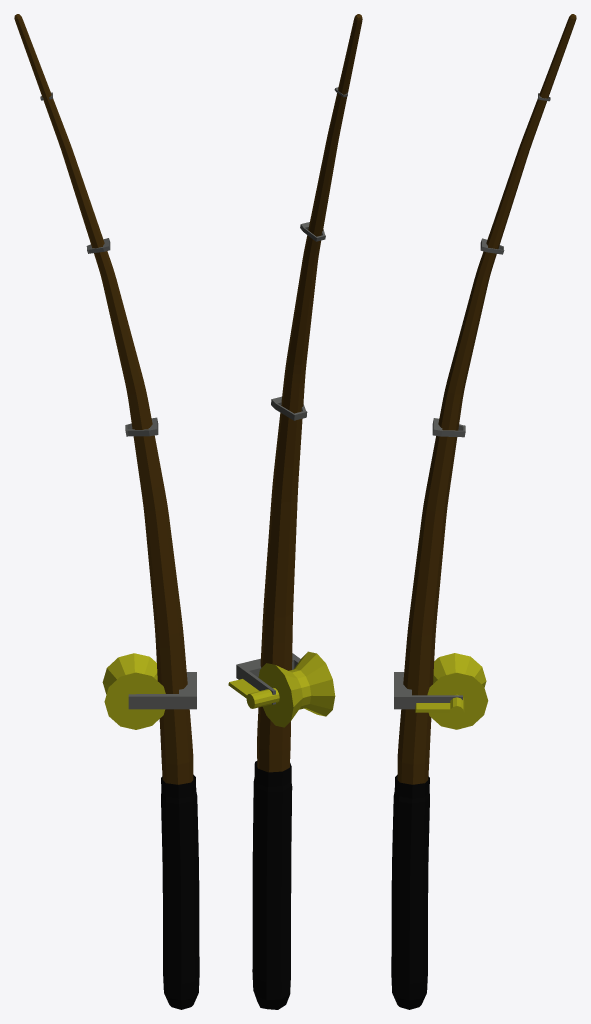
Rendered from FishingRodSource.fbx.
The picture shows the model from 3 angles, left to right: view 1: azimuth 90°, elevation 25°; view 2: azimuth 210°, elevation 25°; view 3: azimuth 270°, elevation 25°; orthographic projection. The views are drawn at different scales.
Parts seen in each view (by area): view 1: Cube, Cylinder, Cube.001; view 2: Cube, Cylinder, Cube.001; view 3: Cube, Cylinder, Cube.001.
Boxes of the visible parts, box(x1,y1,x2,y2) form: Cube: box(14, 14, 199, 1009); Cylinder: box(102, 653, 165, 729); Cube.001: box(40, 92, 196, 709); Cube: box(252, 14, 362, 1009); Cylinder: box(228, 651, 335, 727); Cube.001: box(236, 87, 347, 704); Cube: box(391, 14, 576, 1009); Cylinder: box(415, 653, 488, 729); Cube.001: box(394, 93, 550, 709).
Size of the model in its own units: 0.1829 by 2.52 by 0.4247.
